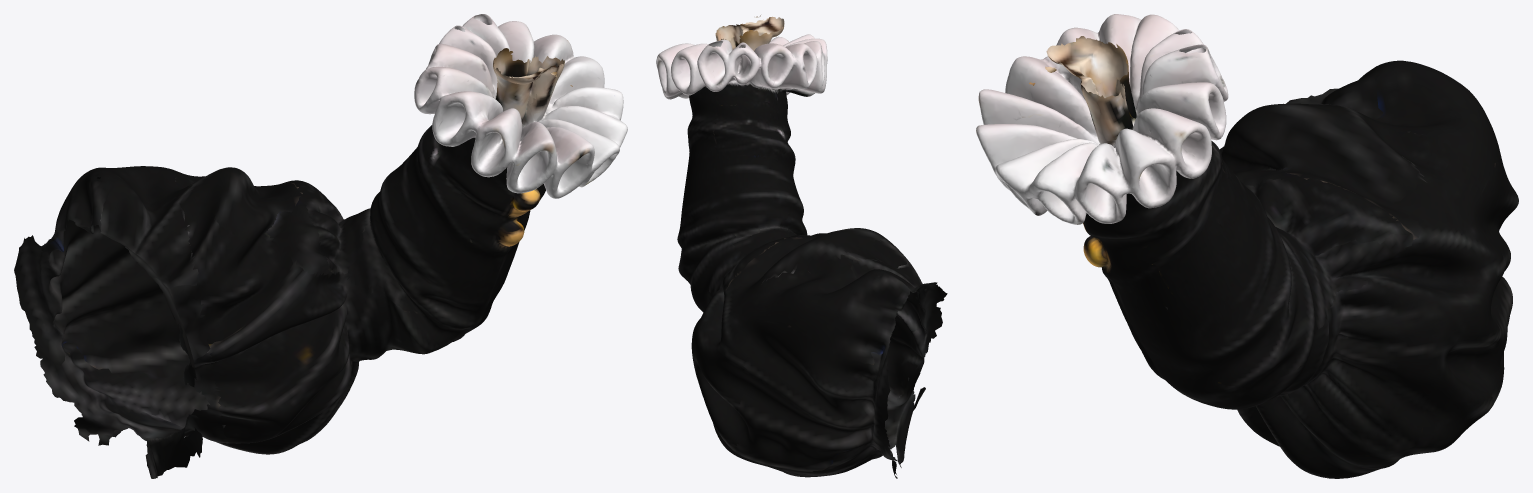
The model's file is brazoIzq.obj.
The picture shows the model from 3 angles, left to right: view 1: azimuth 30°, elevation 25°; view 2: azimuth 150°, elevation 25°; view 3: azimuth 270°, elevation 25°; orthographic projection. The views are drawn at different scales.
Visible parts, largest first — view 1: brazoIzq; view 2: brazoIzq; view 3: brazoIzq.
Boxes of the visible parts, <box> form: brazoIzq: <box>14,14,627,478</box>; brazoIzq: <box>656,15,947,478</box>; brazoIzq: <box>976,14,1518,478</box>.
Bounding box in the file's own units: 0.3912 × 0.3753 × 0.3587.
Materials: 1 (1 with a texture image).
